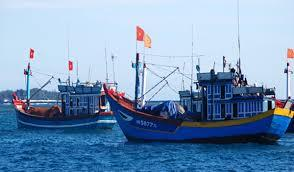Ship: (105, 66, 294, 142), (14, 62, 116, 129)
